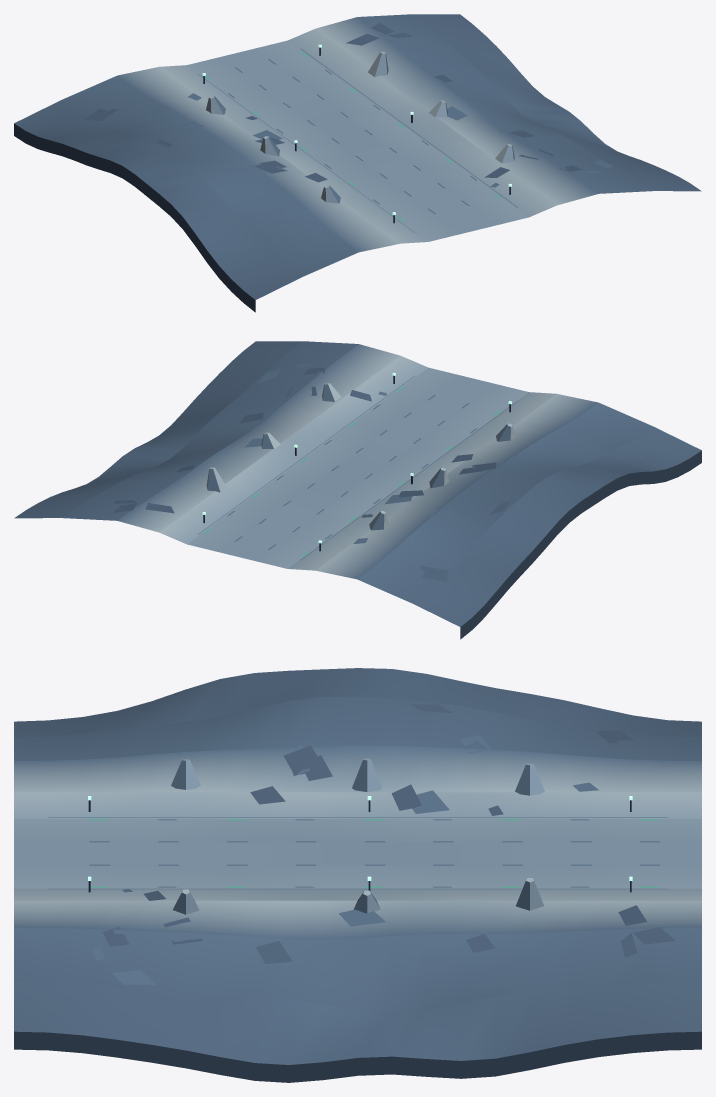
File: 08-summit.glb
The picture shows the model from 3 angles, top to bottom: view 1: azimuth 30°, elevation 25°; view 2: azimuth 150°, elevation 25°; view 3: azimuth 270°, elevation 25°; orthographic projection. The views are drawn at different scales.
Visible parts, largest first — view 1: summit; view 2: summit; view 3: summit.
Boxes of the visible parts, x1=… form: summit: x1=14, y1=14, x2=701, y2=312; summit: x1=14, y1=341, x2=701, y2=639; summit: x1=14, y1=668, x2=701, y2=1082.
Size of the model in its own units: 32 by 5.24 by 30.
